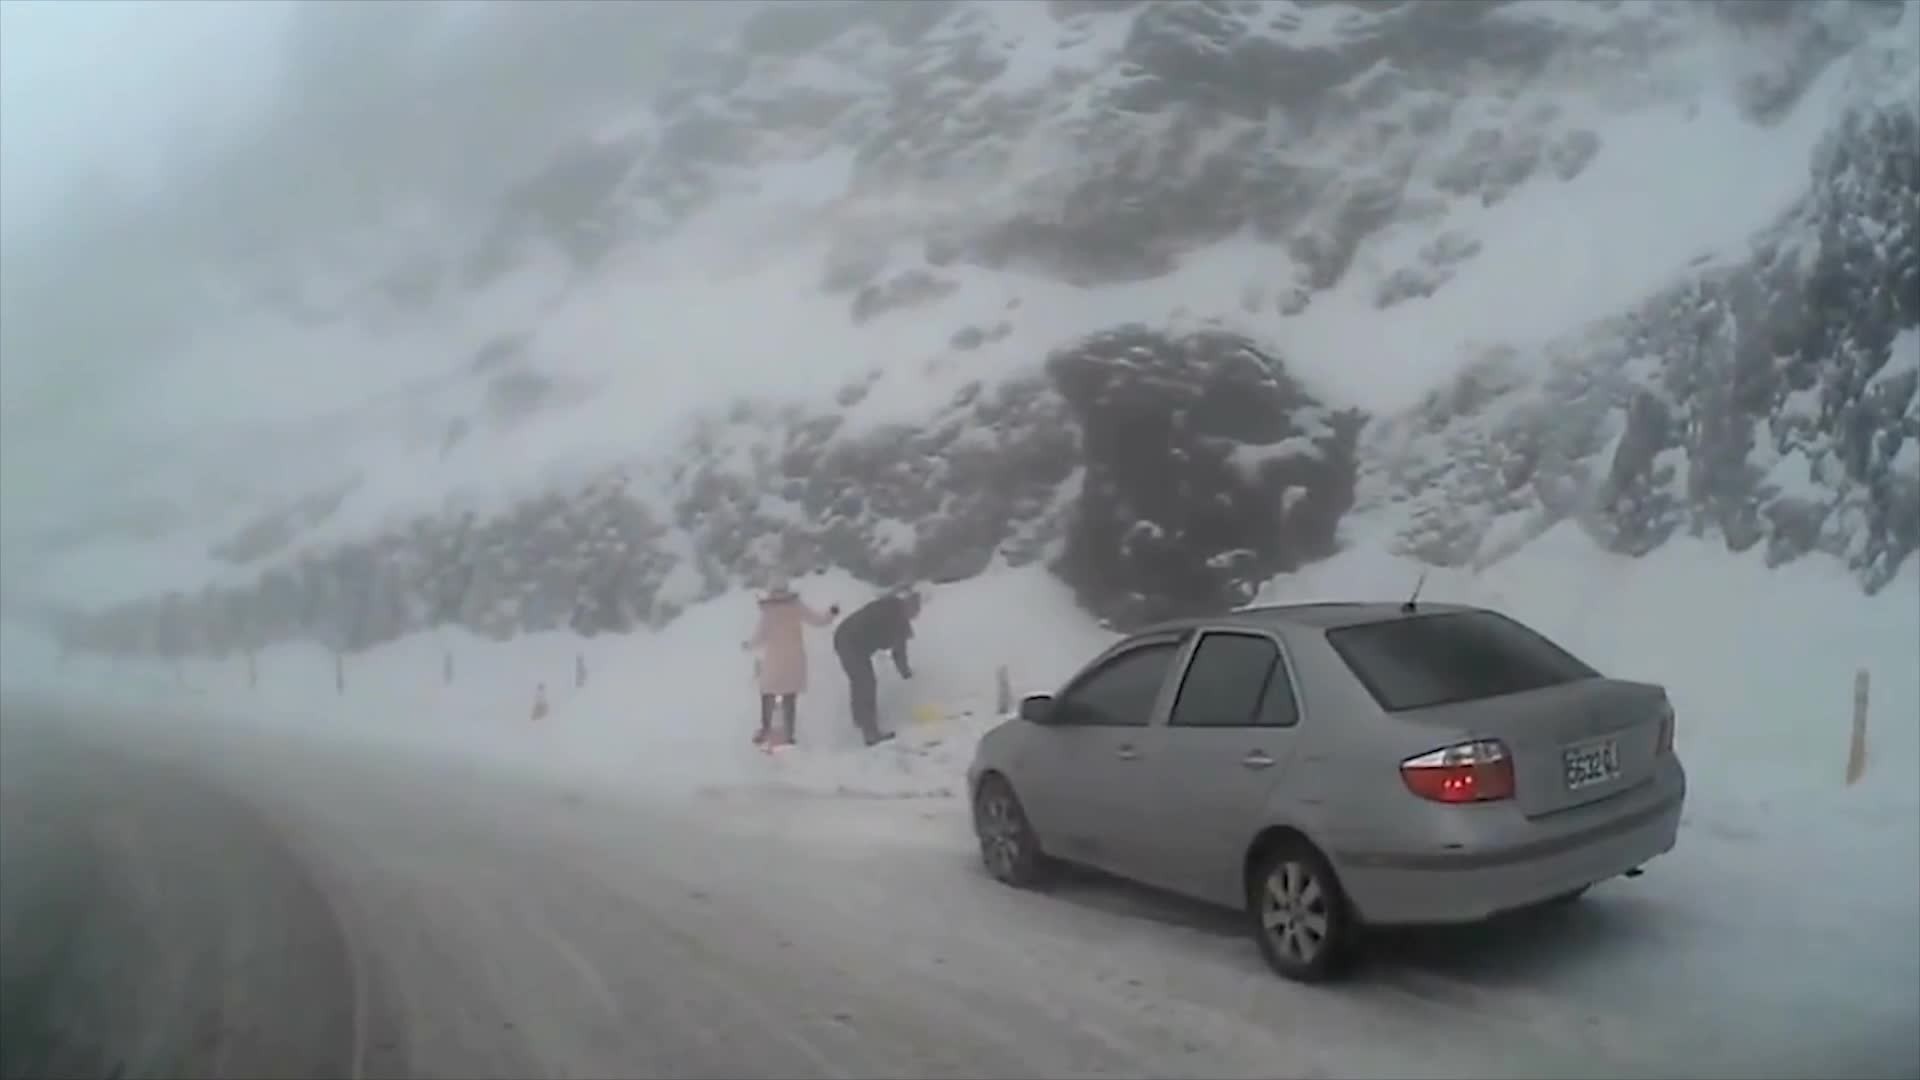pedestrian: (741, 570, 839, 746), (835, 593, 924, 744)
vehicle: (968, 599, 1685, 986)
